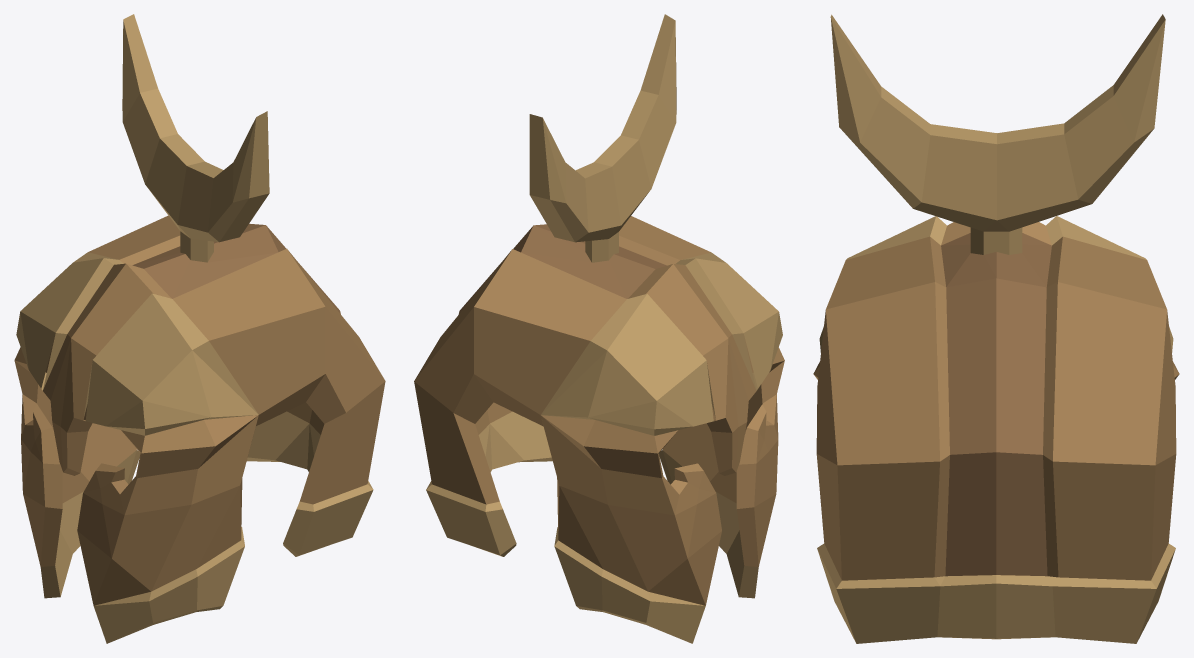
The model's file is Chr_Attach_Helmet_04.fbx.
3 views of the same model, side by side, from view 1: azimuth 30°, elevation 25°; view 2: azimuth 150°, elevation 25°; view 3: azimuth 270°, elevation 25° (orthographic). The views are drawn at different scales.
Parts seen in each view (by area): view 1: Chr_Attach_Helmet_04; view 2: Chr_Attach_Helmet_04; view 3: Chr_Attach_Helmet_04.
Part boxes in pixels (x1,y1,x2,y2): Chr_Attach_Helmet_04: (14, 14, 385, 643); Chr_Attach_Helmet_04: (414, 14, 784, 643); Chr_Attach_Helmet_04: (813, 14, 1179, 643).
Size of the model in its own units: 28.77 by 26.14 by 51.81.
1 material, 1 textured.
